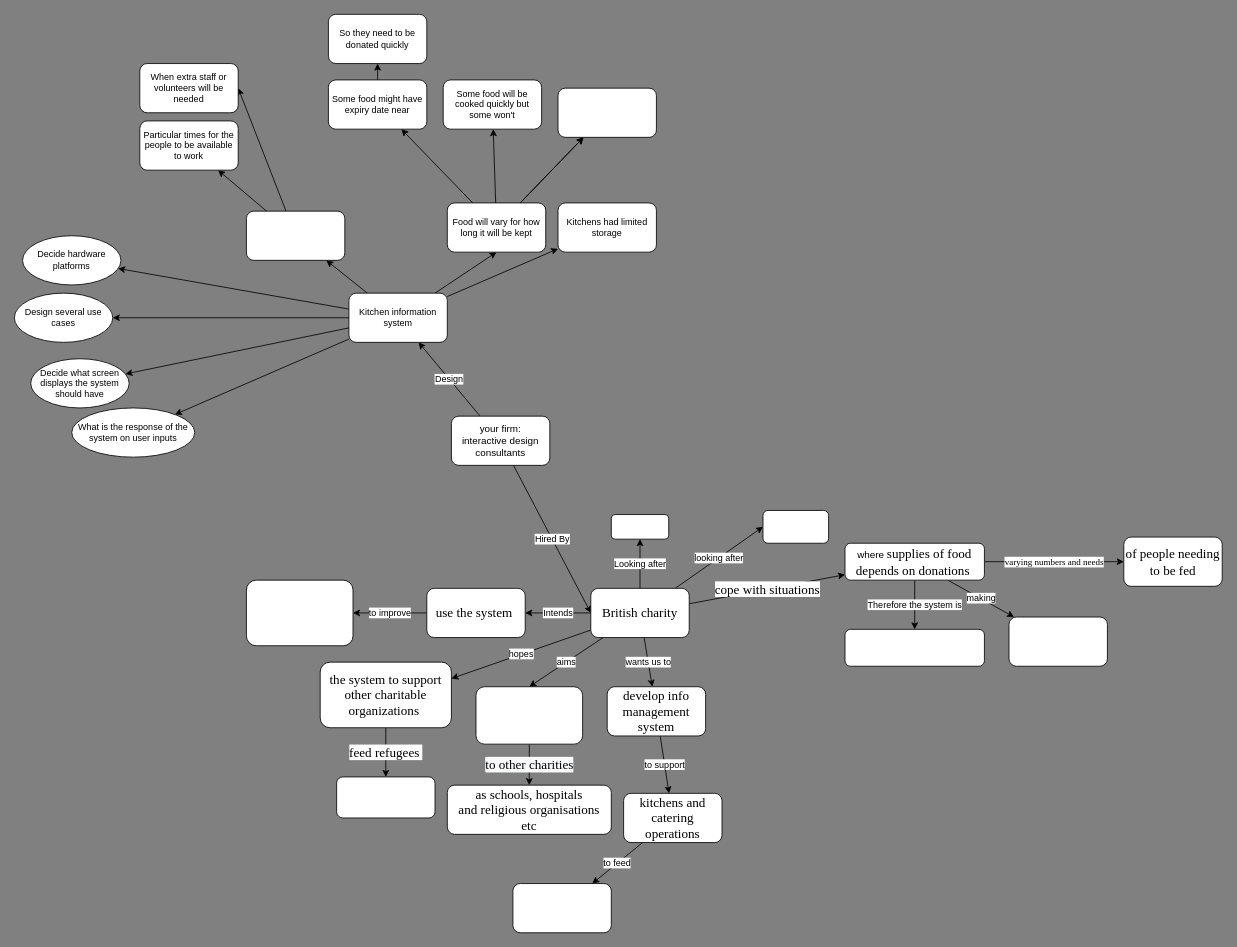
Image size: 1237x947. Some labels were removed from this diagram. The centre of each missing label's shape, as x and y in pixels:
Camps in greece, turkey and syria: point (385, 797)
Homeless People: point (795, 526)
long term planning difficult: point (1057, 641)
medium/large group of people: point (561, 908)
not entirely predictable: point (914, 647)
operation of kitchens in large homeless shelters: point (299, 612)
Refugees: point (639, 526)
Some food can be stored for a long time some won't be able to stored.: point (606, 112)
system available for free or at nominal charge: point (529, 715)
Track of people at work: point (295, 235)
